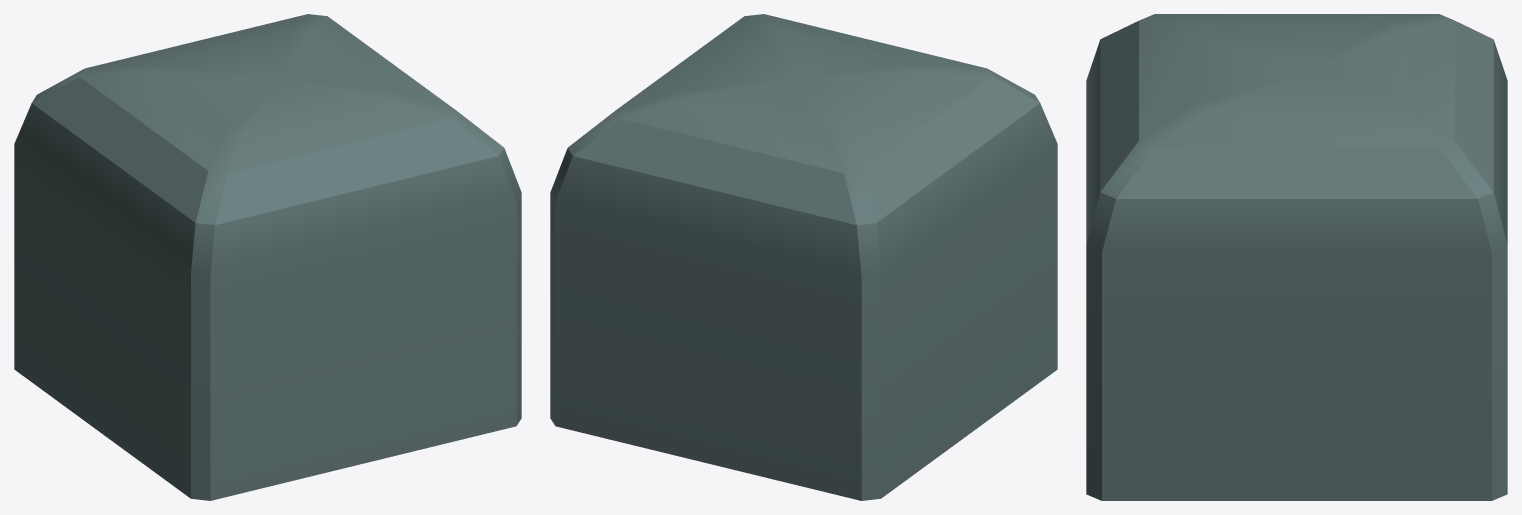
The model's file is updated_hedge1.fbx.
3 renders of one model, left to right at view 1: azimuth 30°, elevation 25°; view 2: azimuth 150°, elevation 25°; view 3: azimuth 270°, elevation 25°, orthographic. The views are drawn at different scales.
Parts seen in each view (by area): view 1: hedge1; view 2: hedge1; view 3: hedge1.
Boxes of the visible parts, x1=… form: hedge1: x1=14, y1=14, x2=521, y2=500; hedge1: x1=550, y1=14, x2=1057, y2=500; hedge1: x1=1086, y1=14, x2=1507, y2=500.
Size of the model in its own units: 100 by 90 by 100.
